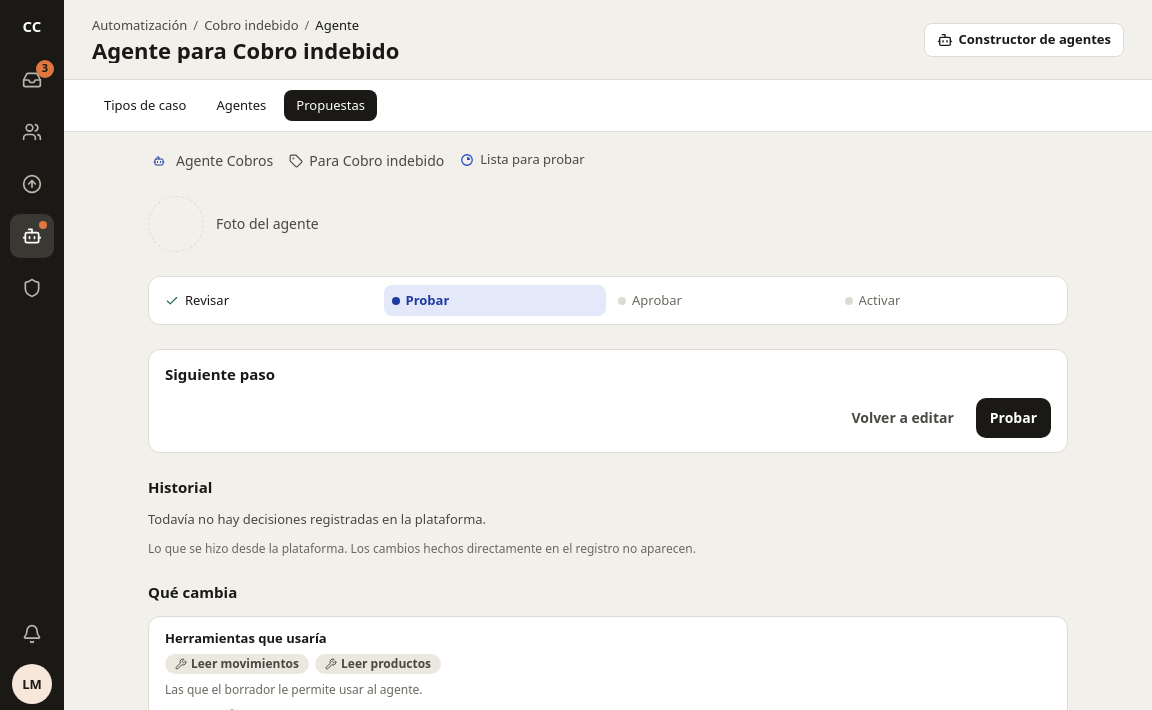
Scenario: a proposal (slice 22) › tests with the suite and shows a failed gate as a result
This screenshot has width=1152, height=710.
Click the button "Probar". click: [1013, 418]
box: x1=976 y1=398 x2=1051 y2=438
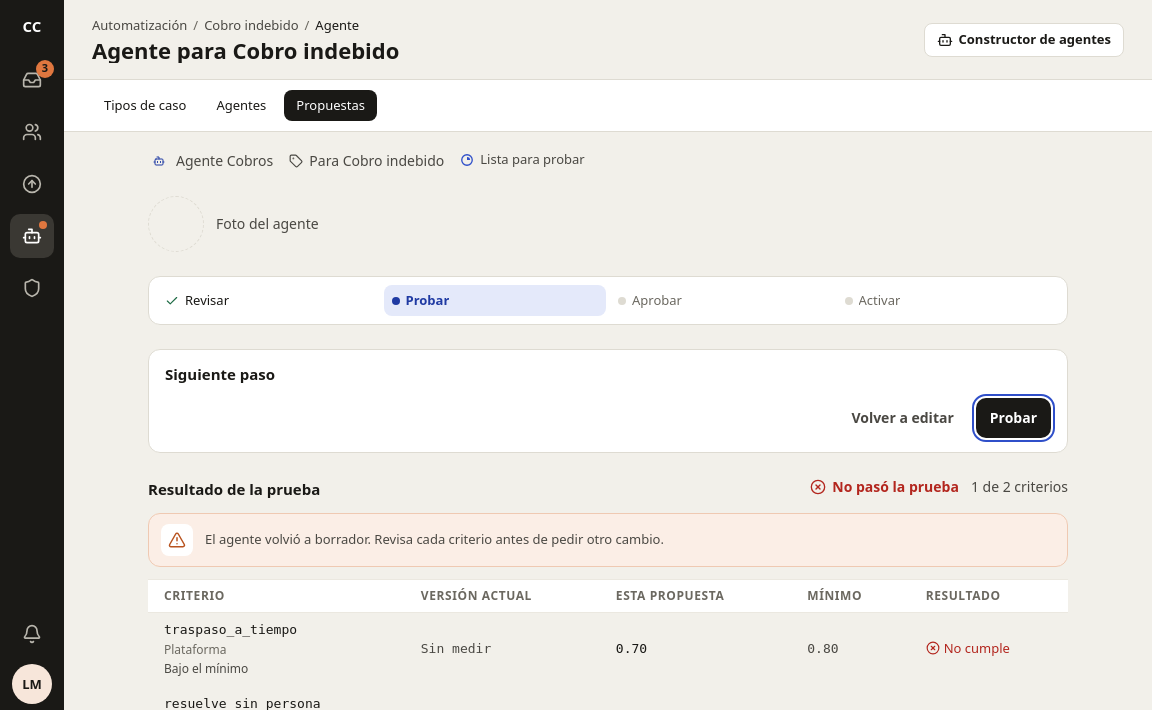
Expected: the text "No pasó la prueba" is shown, x1=810 y1=477 x2=959 y2=497
Expected: the text "El agente volvió a borrador. Revisa cada criterio antes de pedir otro cambio." is shown, x1=205 y1=530 x2=664 y2=548
Expected: the text "traspaso_a_tiempo" is shown, x1=164 y1=622 x2=297 y2=637
